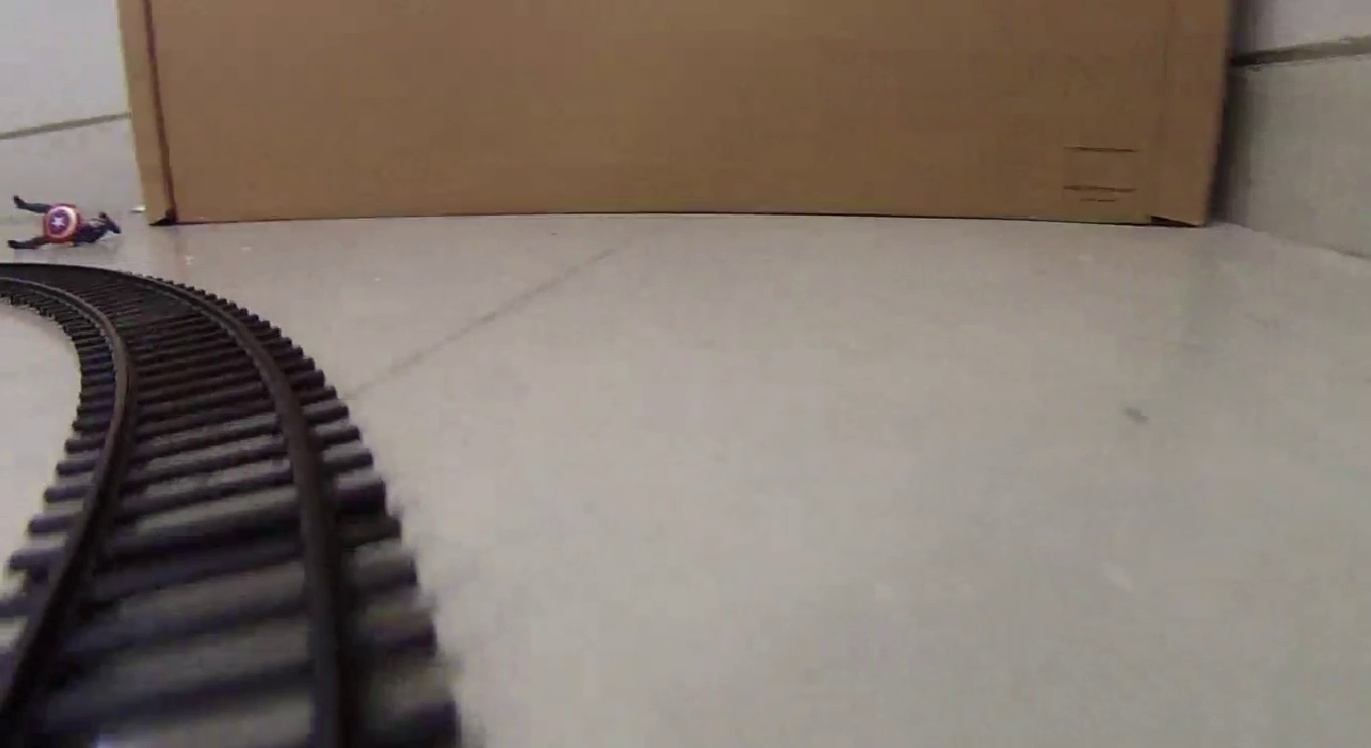people: (4, 197, 121, 247)
